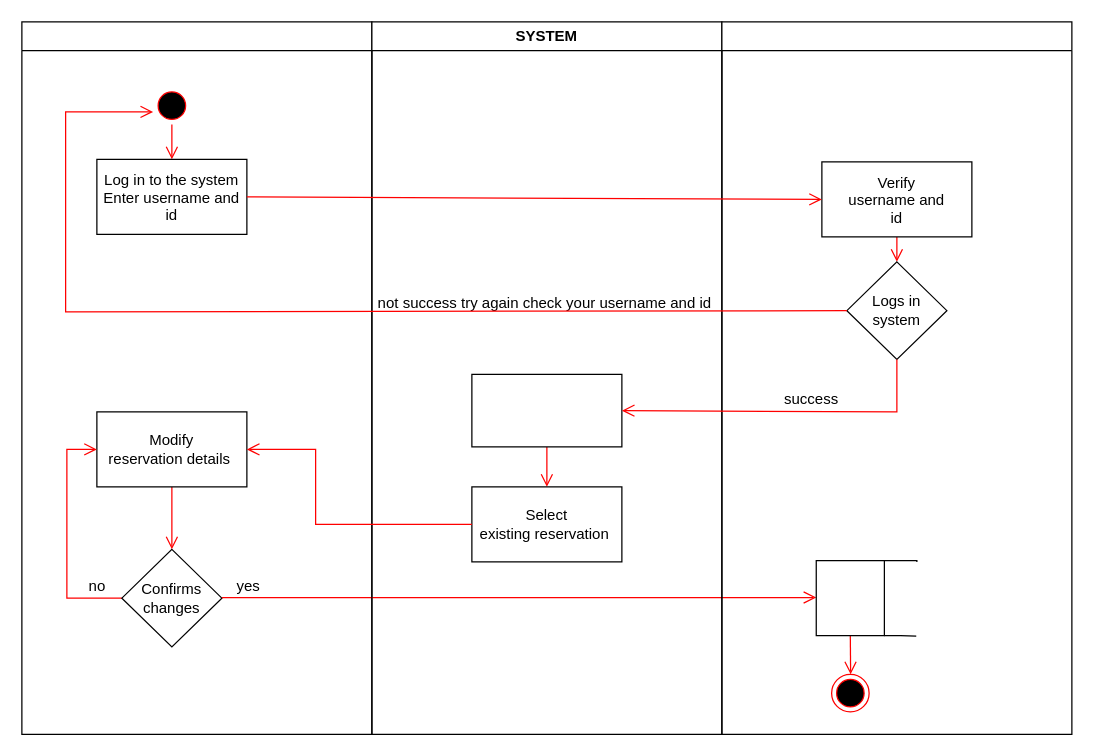
Some shapes in this 1094 by 756 pixel diagram are drawn without their labels. Here are the shapes that lost their labels. From the top down, the box of each, then its label:
(21, 21, 372, 734): CUSTOMER / AIRLINE STAFF
(721, 21, 1072, 734): DATABASE OF THE SYSTEM
(471, 373, 622, 447): Go to reservation modification page
(815, 559, 884, 636): System Updates reservation information
